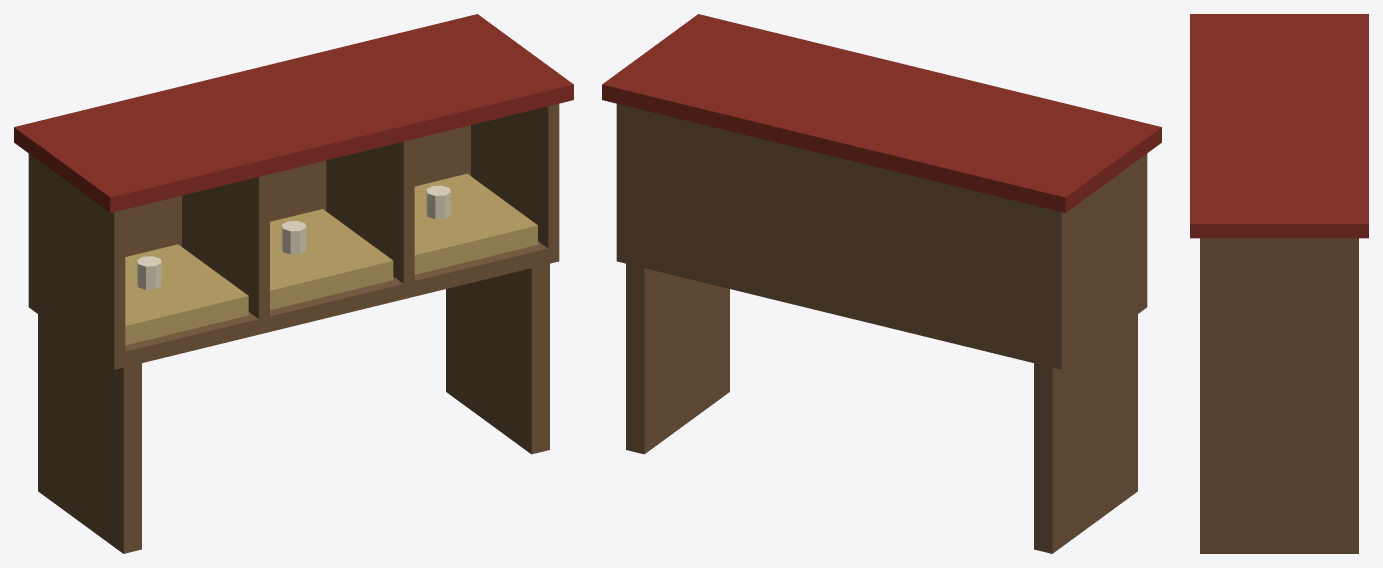
File: nest box.glb
The picture shows the model from 3 angles, left to right: view 1: azimuth 30°, elevation 25°; view 2: azimuth 150°, elevation 25°; view 3: azimuth 270°, elevation 25°; orthographic projection. The views are drawn at different scales.
Visible parts, largest first — view 1: nest box; view 2: nest box; view 3: nest box.
Part boxes in pixels (<box>): nest box: <box>14,14,573,553</box>; nest box: <box>602,14,1161,553</box>; nest box: <box>1190,14,1368,553</box>.
Bounding box in the file's own units: 1.25 × 0.94 × 0.45.
